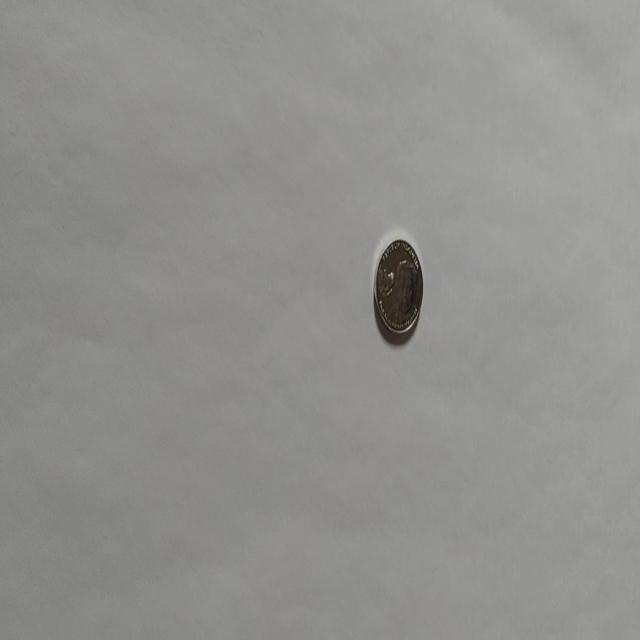seratus rupiah: (372, 236, 423, 337)
